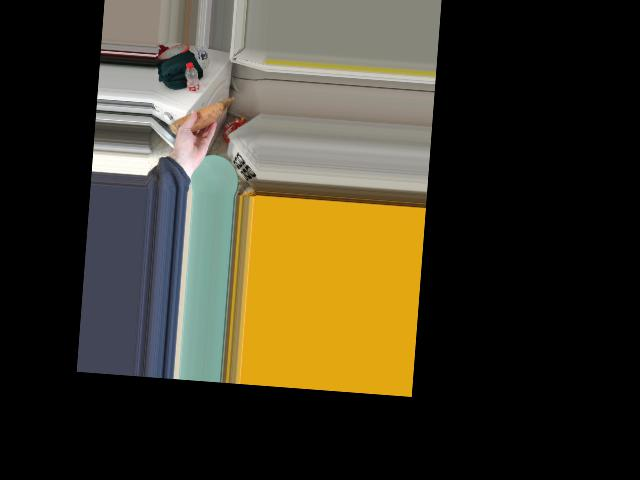sweet_potato: (183, 98, 219, 133)
